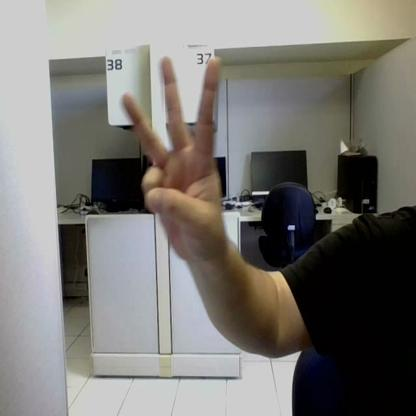W: (122, 57, 229, 254)
